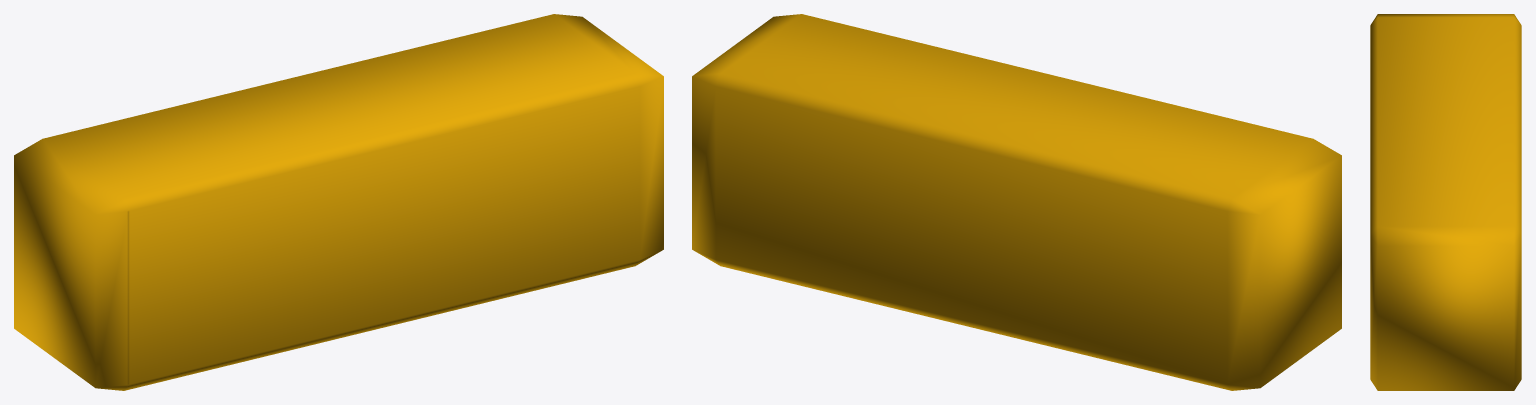
Rendered from Brick_02.obj.
3 renders of one model, left to right at view 1: azimuth 30°, elevation 25°; view 2: azimuth 150°, elevation 25°; view 3: azimuth 270°, elevation 25°, orthographic. The views are drawn at different scales.
Visible parts, largest first — view 1: Cube_Paddle; view 2: Cube_Paddle; view 3: Cube_Paddle.
Part boxes in pixels (x1,y1,x2,y2): Cube_Paddle: (14,14,663,390); Cube_Paddle: (692,14,1341,390); Cube_Paddle: (1370,14,1521,390).
Bounding box in the file's own units: 7.25 × 2.34 × 2.
1 material, 1 textured.
